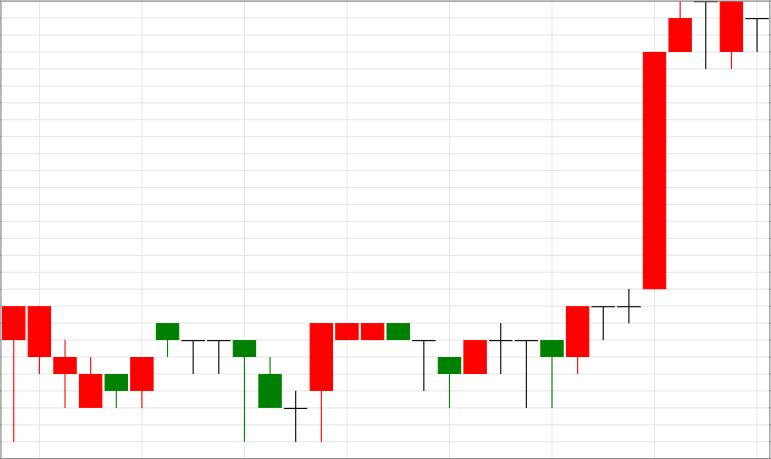morning_star_rise: (157, 324, 333, 442)
